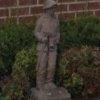Statue: (25, 0, 77, 97)
